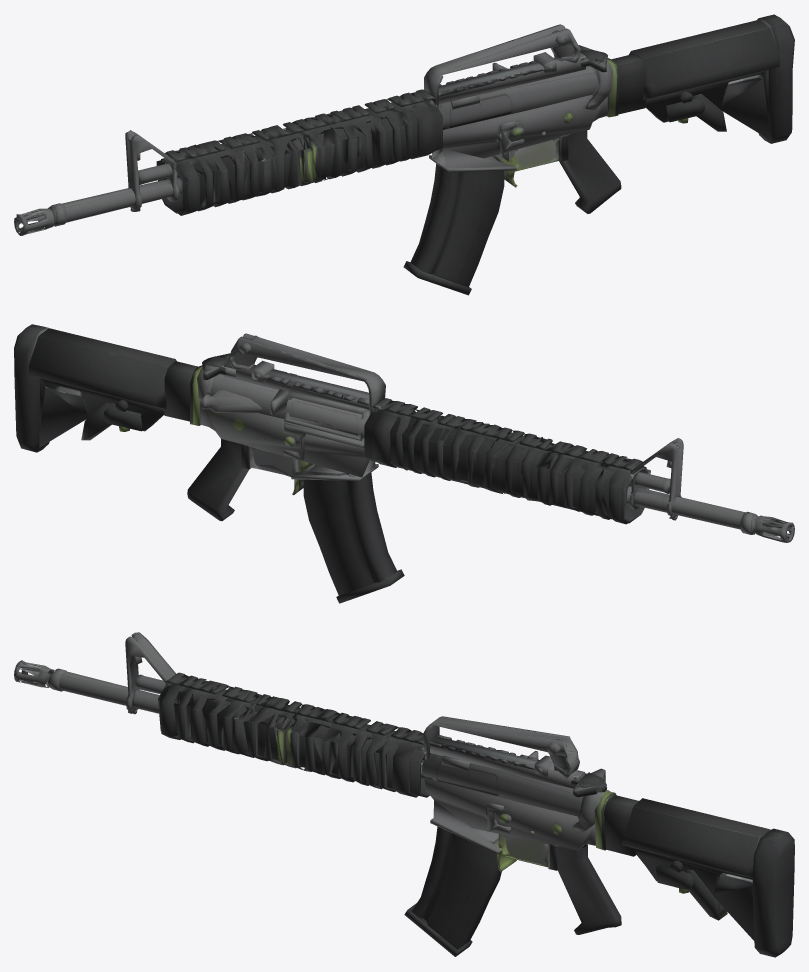
File: ar_ironclad.glb
The picture shows the model from 3 angles, top to bottom: view 1: azimuth 30°, elevation 25°; view 2: azimuth 150°, elevation 25°; view 3: azimuth 330°, elevation 25°; orthographic projection.
Size of the model in its own units: 0.9551 by 0.2827 by 0.0781.
Materials: 1 (1 with a texture image).
